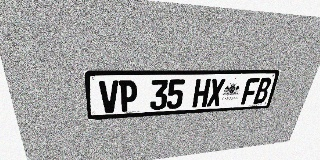3: (150, 79, 168, 110)
5: (166, 79, 185, 109)
B: (253, 78, 272, 104)
F: (241, 78, 260, 104)
H: (192, 79, 211, 108)
P: (119, 80, 137, 112)
V: (99, 80, 119, 113)
X: (206, 78, 226, 107)
